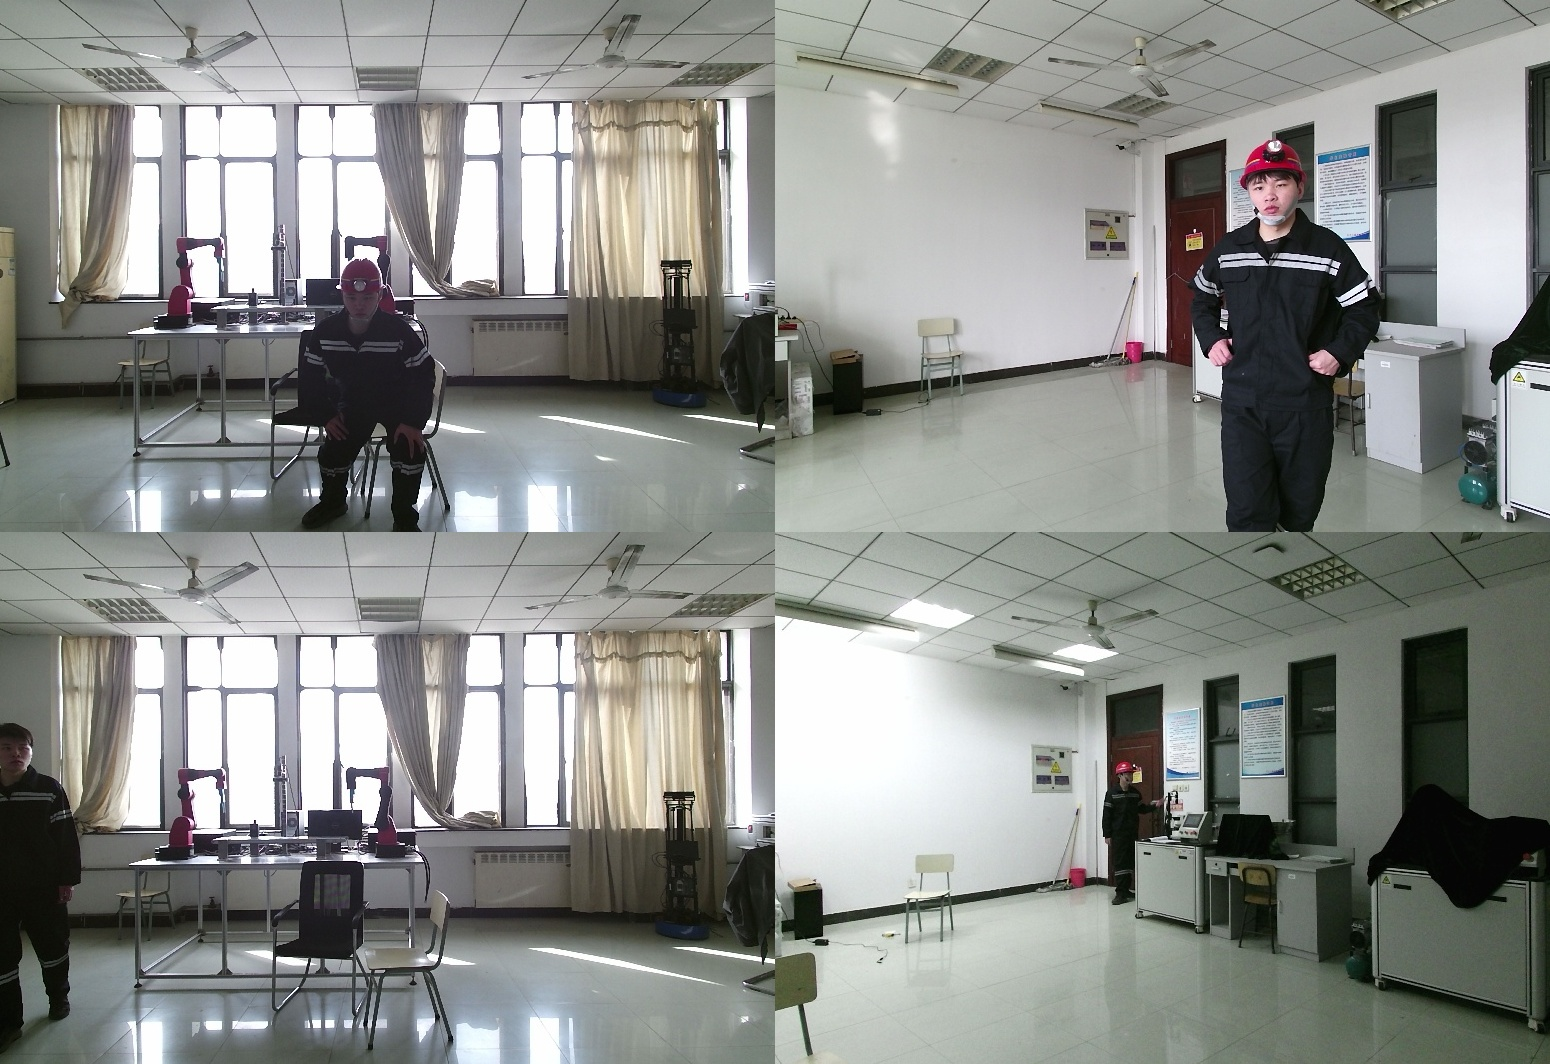person: (1191, 132, 1406, 532), (301, 259, 453, 532), (3, 723, 88, 1048), (1101, 765, 1154, 906)
